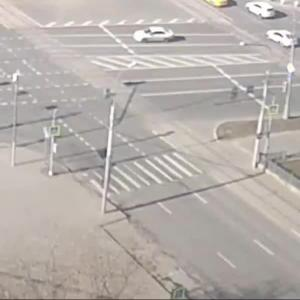car: (132, 27, 178, 45), (265, 29, 300, 48), (246, 1, 276, 22), (203, 1, 230, 11)
